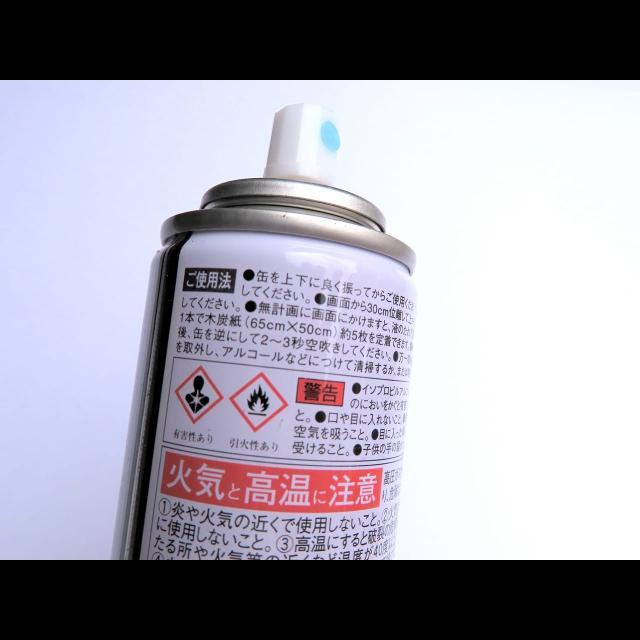chemical_spray_can: (112, 103, 416, 560)
